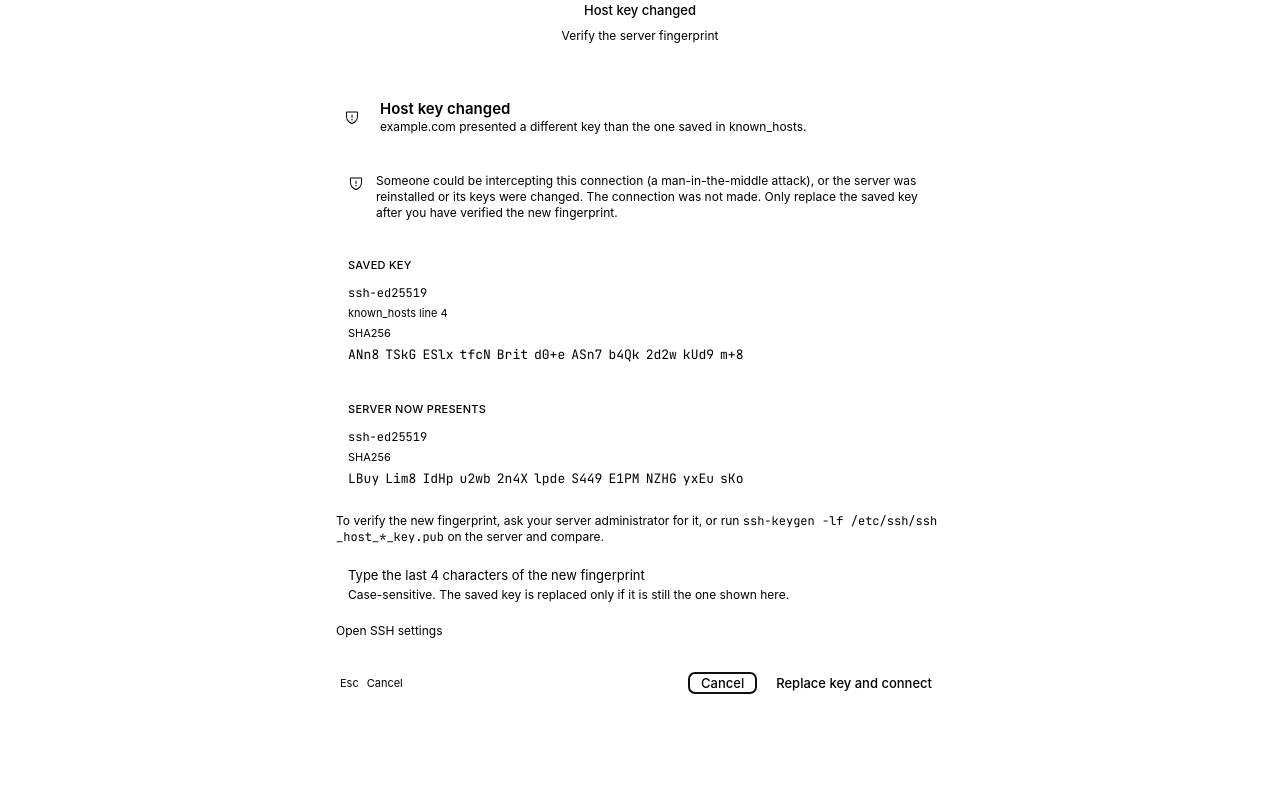
Test: SftpPane host keys › cancelling a changed key changes nothing and keeps the error (without its payload)
Check: the dialog "Host key changed" is shown, box x1=320 y1=89 x2=960 y2=711
Click the button "Cancel" at (723, 683), box x1=689 y1=673 x2=756 y2=693
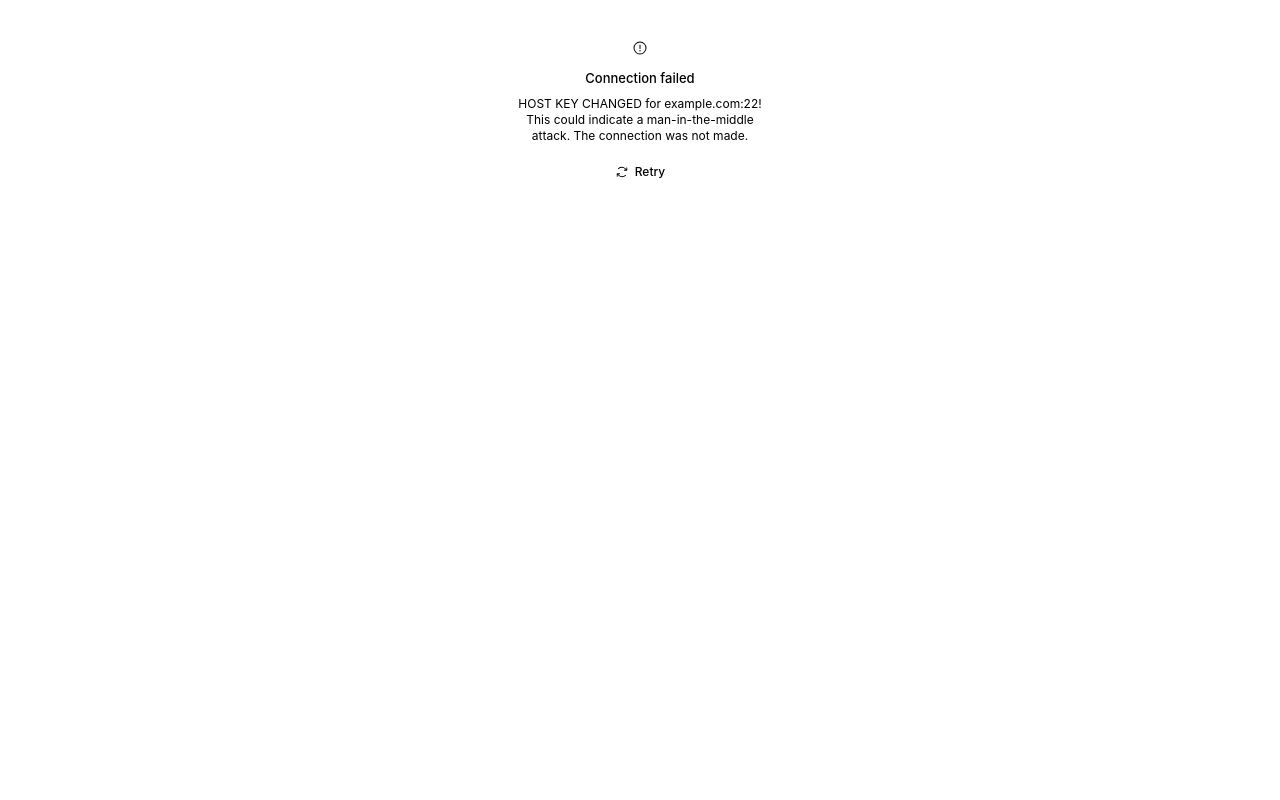
Check: the dialog is gone
Check: the text "HOST KEY CHANGED for example.com" is shown, box x1=518 y1=96 x2=762 y2=143
